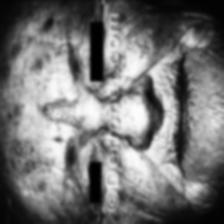Non-Cancerous Skin Condition: (7, 7, 80, 196), (119, 4, 176, 210)
